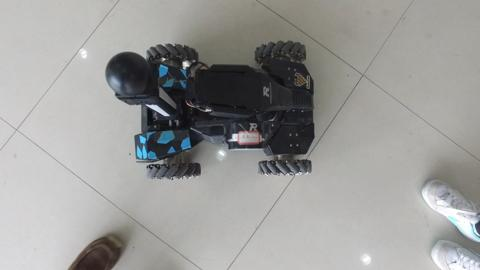chariot: (105, 34, 314, 183)
